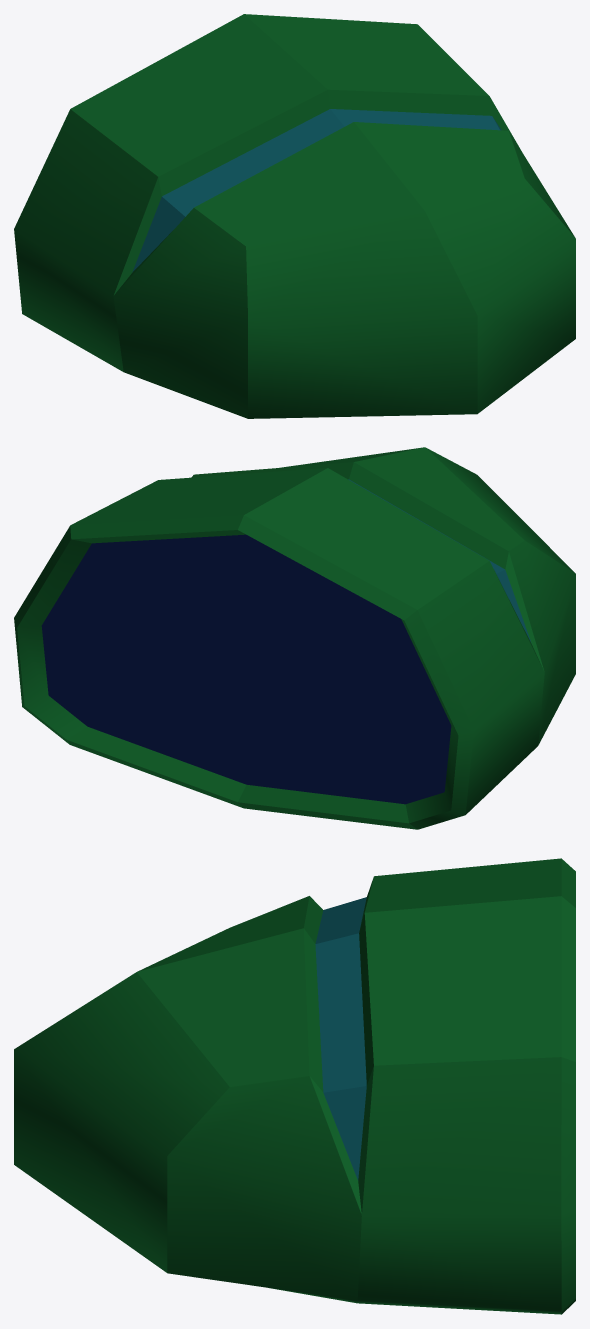
Rendered from MESH_SlicedBread.fbx.
3 views of the same model, one above another, from view 1: azimuth 30°, elevation 25°; view 2: azimuth 150°, elevation 25°; view 3: azimuth 270°, elevation 25° (orthographic). The views are drawn at different scales.
Parts seen in each view (by area): view 1: MESH_SlicedBread; view 2: MESH_SlicedBread; view 3: MESH_SlicedBread.
Boxes of the visible parts, x1,y1,x2,y2 form: MESH_SlicedBread: (14, 14, 575, 418); MESH_SlicedBread: (14, 447, 575, 829); MESH_SlicedBread: (14, 858, 575, 1314).
Size of the model in its own units: 0.1393 by 0.0848 by 0.1257.
